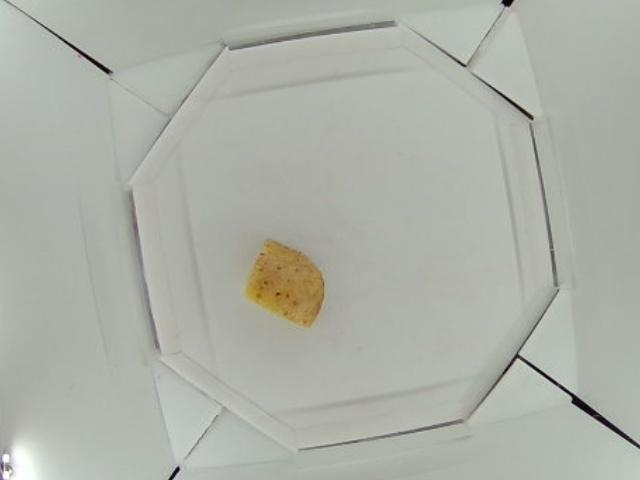Potato: (245, 239, 323, 325)
